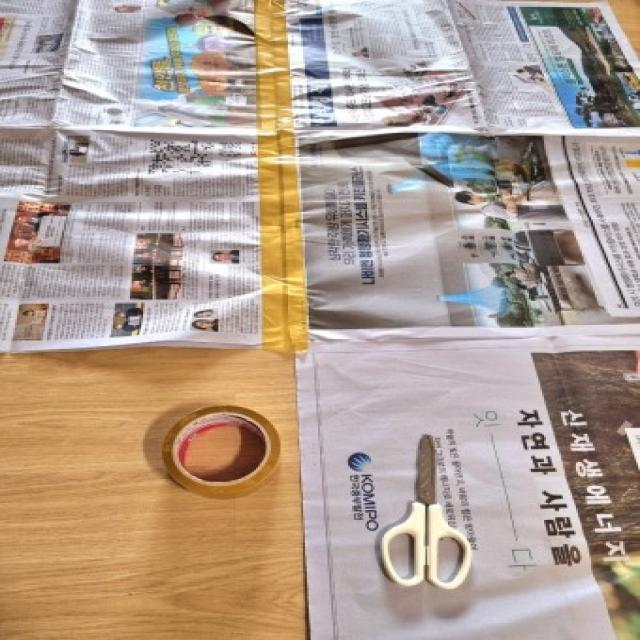Newspaper: (290, 0, 640, 341), (0, 0, 264, 348)
